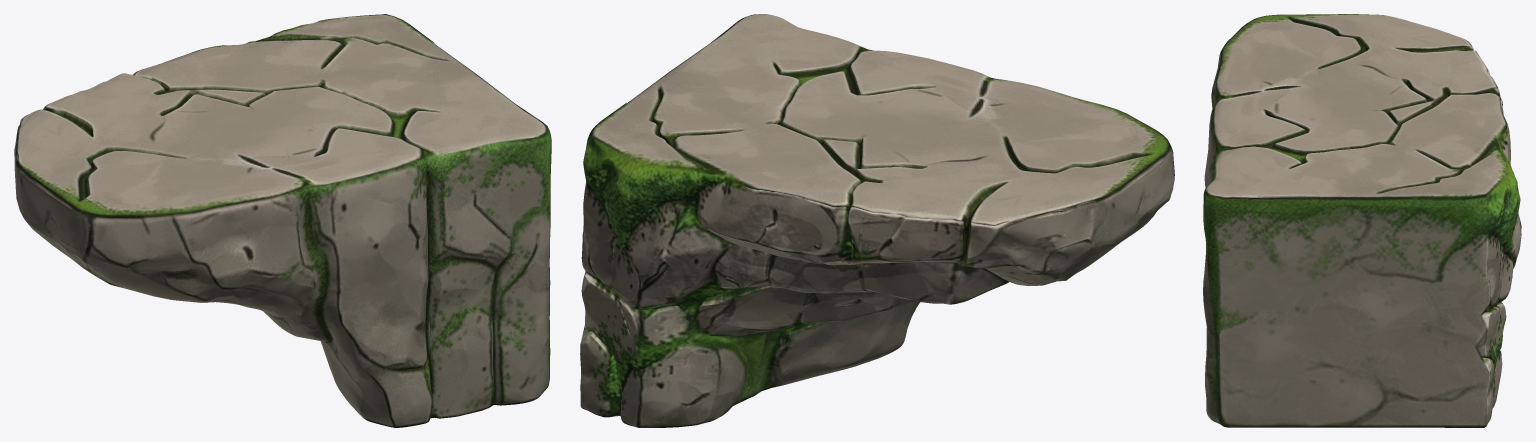
File: RockLedge.fbx
The picture shows the model from 3 angles, left to right: view 1: azimuth 30°, elevation 25°; view 2: azimuth 150°, elevation 25°; view 3: azimuth 270°, elevation 25°; orthographic projection. The views are drawn at different scales.
Parts seen in each view (by area): view 1: RockLedge; view 2: RockLedge; view 3: RockLedge.
Boxes of the visible parts, x1,y1,x2,y2 form: RockLedge: (14,14,551,427); RockLedge: (580,14,1174,427); RockLedge: (1203,14,1521,427).
Bounding box in the file's own units: 2 × 1.15 × 1.44.
Materials: 1 (1 with a texture image).
